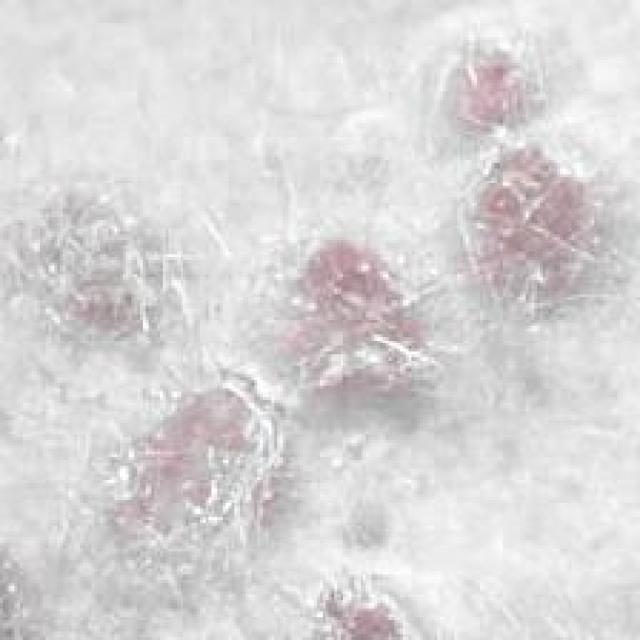monkeypox: (17, 29, 595, 640)
